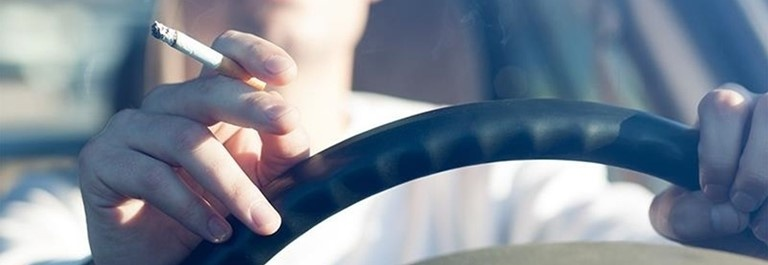sigaretta: (149, 24, 273, 89)
